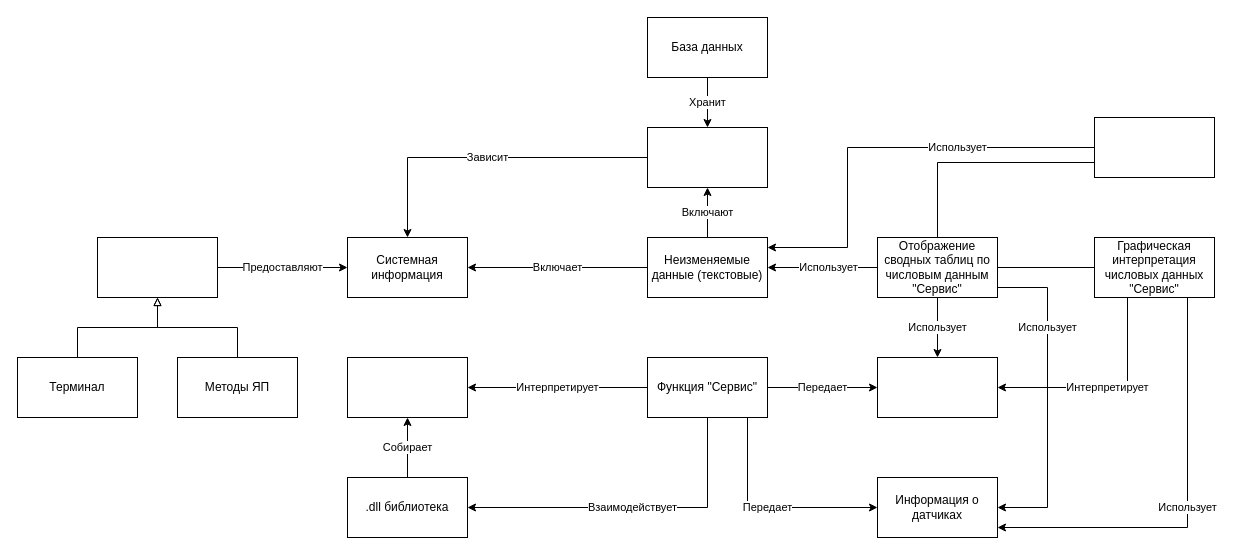
The diagram is 1234 pixels wide and 555 high, and some of its shapes have lost their labels. Here are the shapes that lost their labels. From the top down, the box of each, then its label:
(646, 126, 768, 188): Ссылки на сайт производителя, дополнительная информация
(1094, 116, 1214, 178): Формирование отчета о системе "Сервис"
(96, 236, 218, 298): Методы получения информации о системе
(346, 356, 468, 418): Информация с датчиков
(876, 356, 998, 418): Числовые данные
